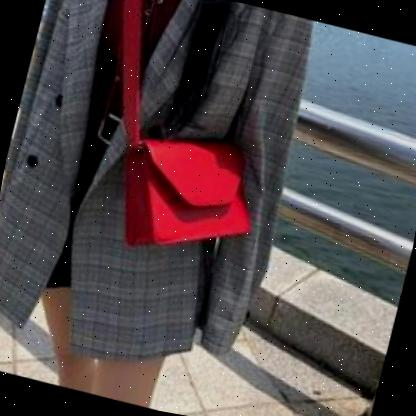bag: (93, 109, 273, 271)
